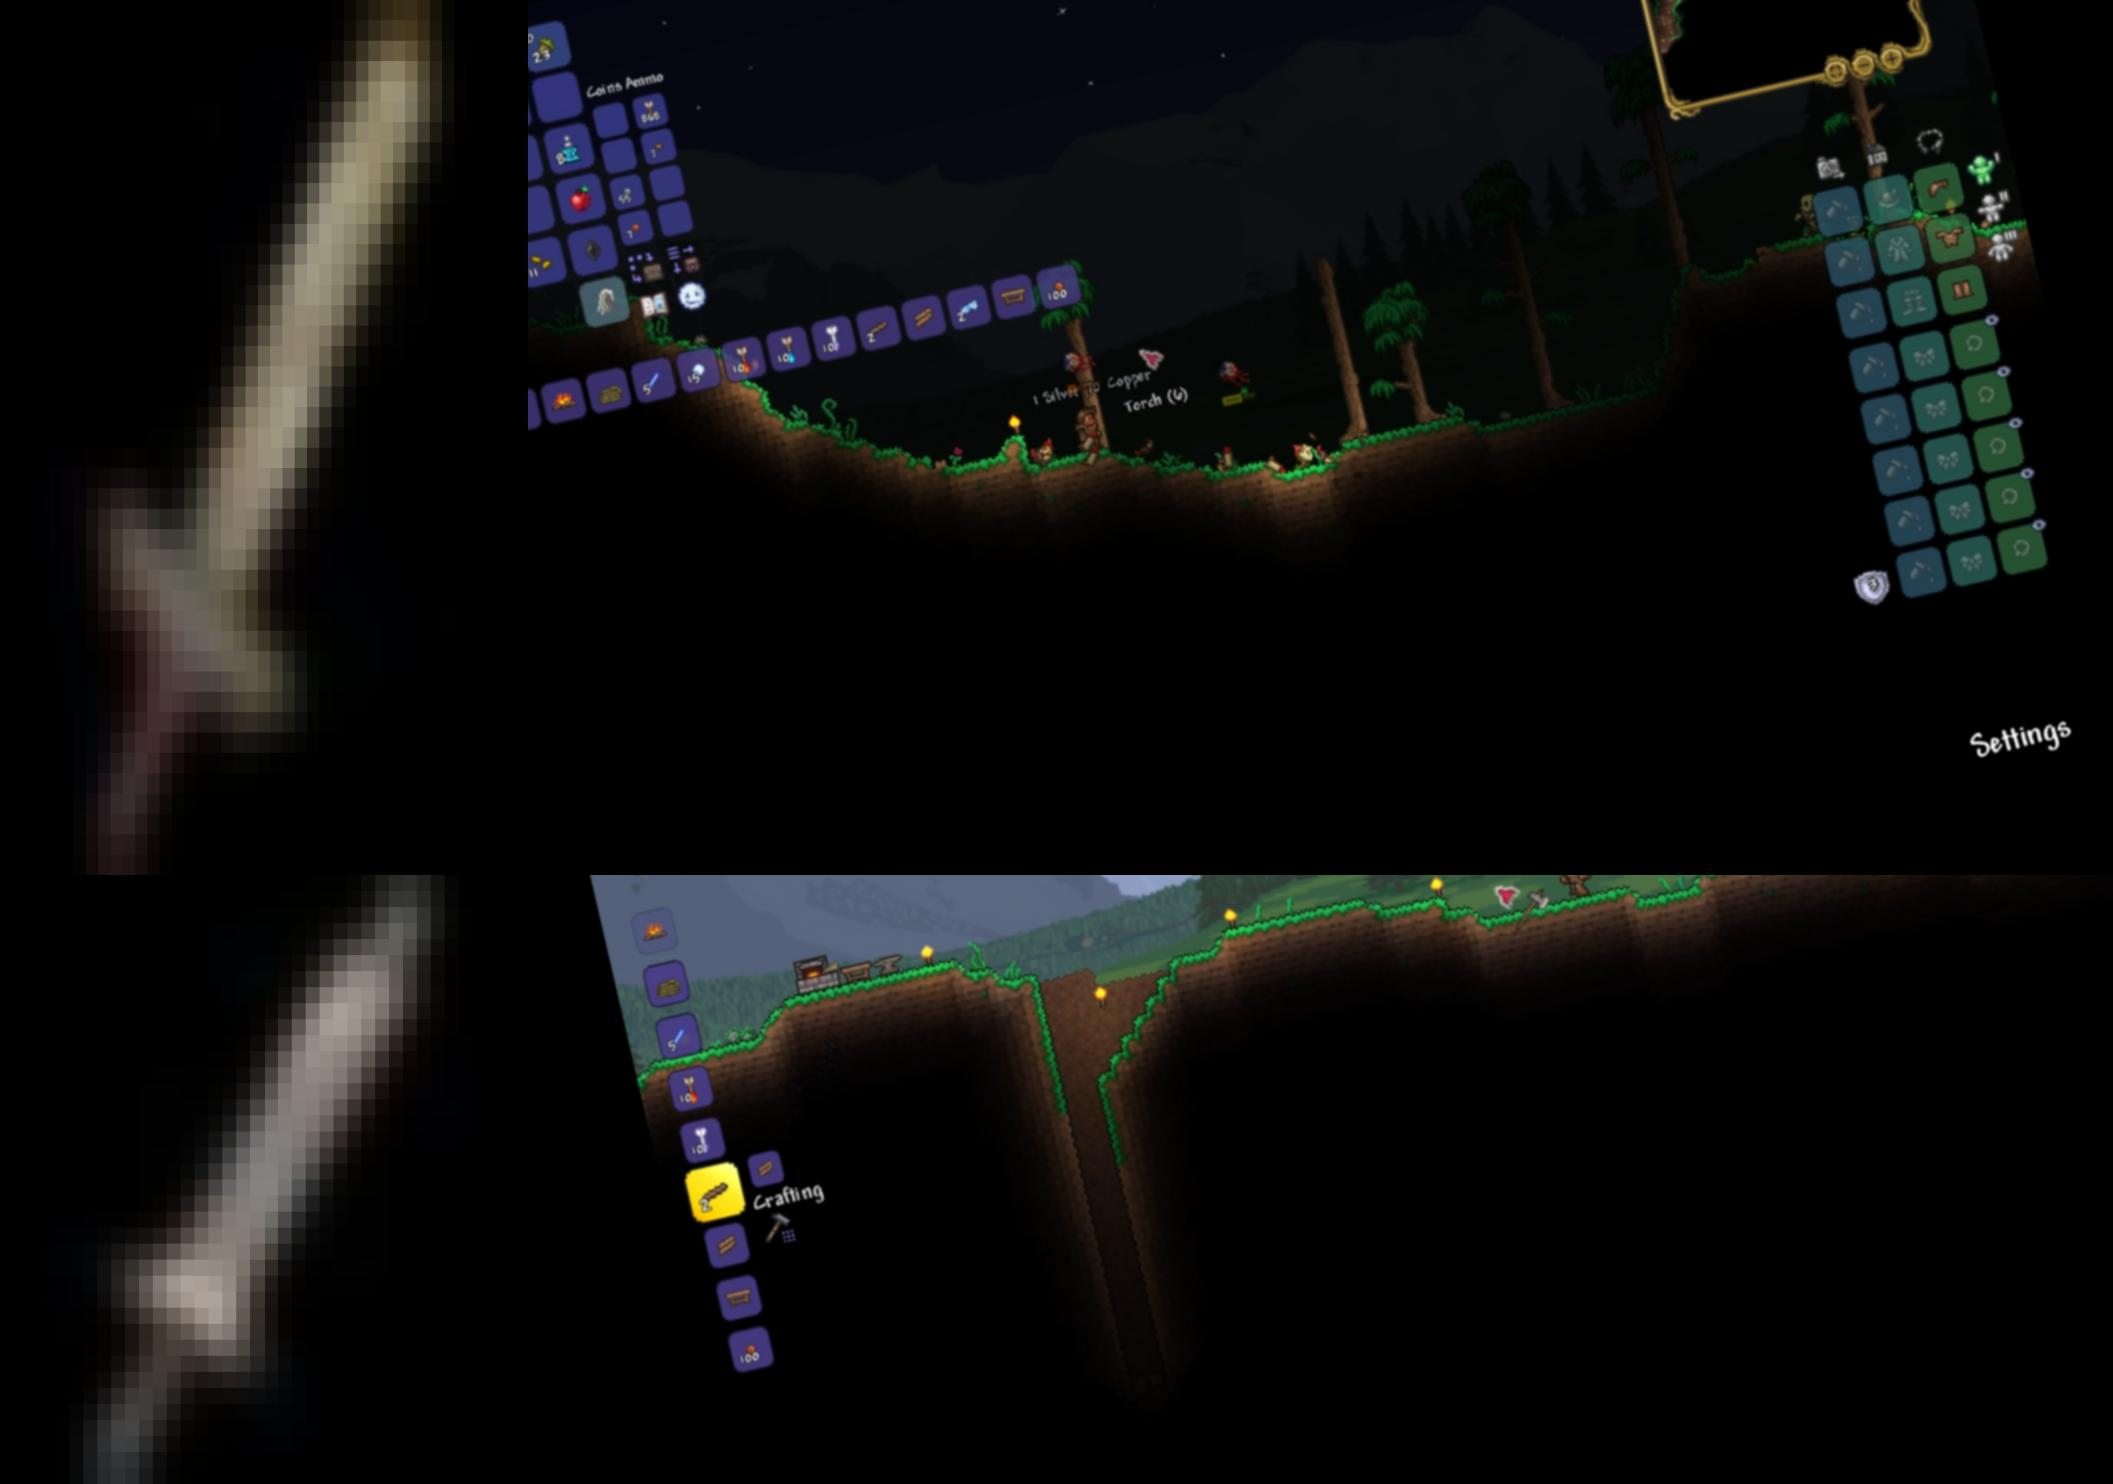recallP: (551, 128, 586, 170)
sword: (0, 0, 528, 875), (0, 875, 528, 1484)
